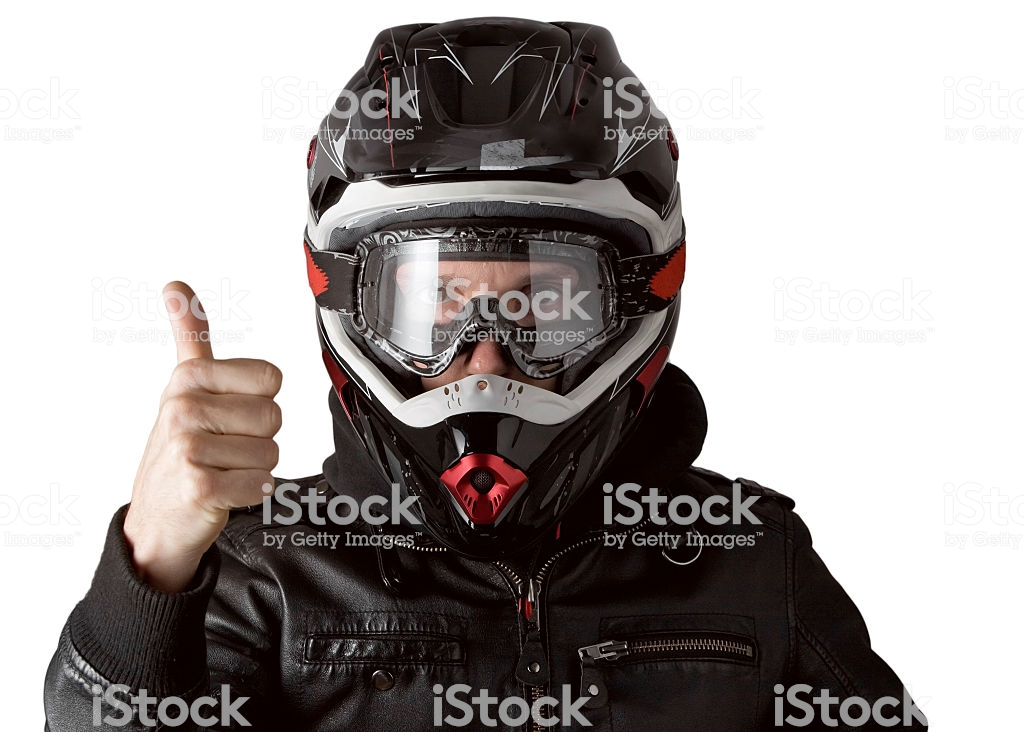helmet: (268, 8, 704, 518)
